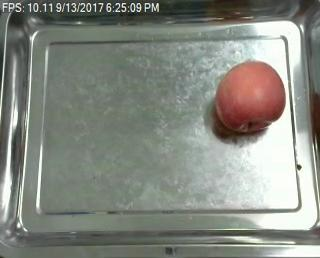apple: (214, 60, 286, 131)
